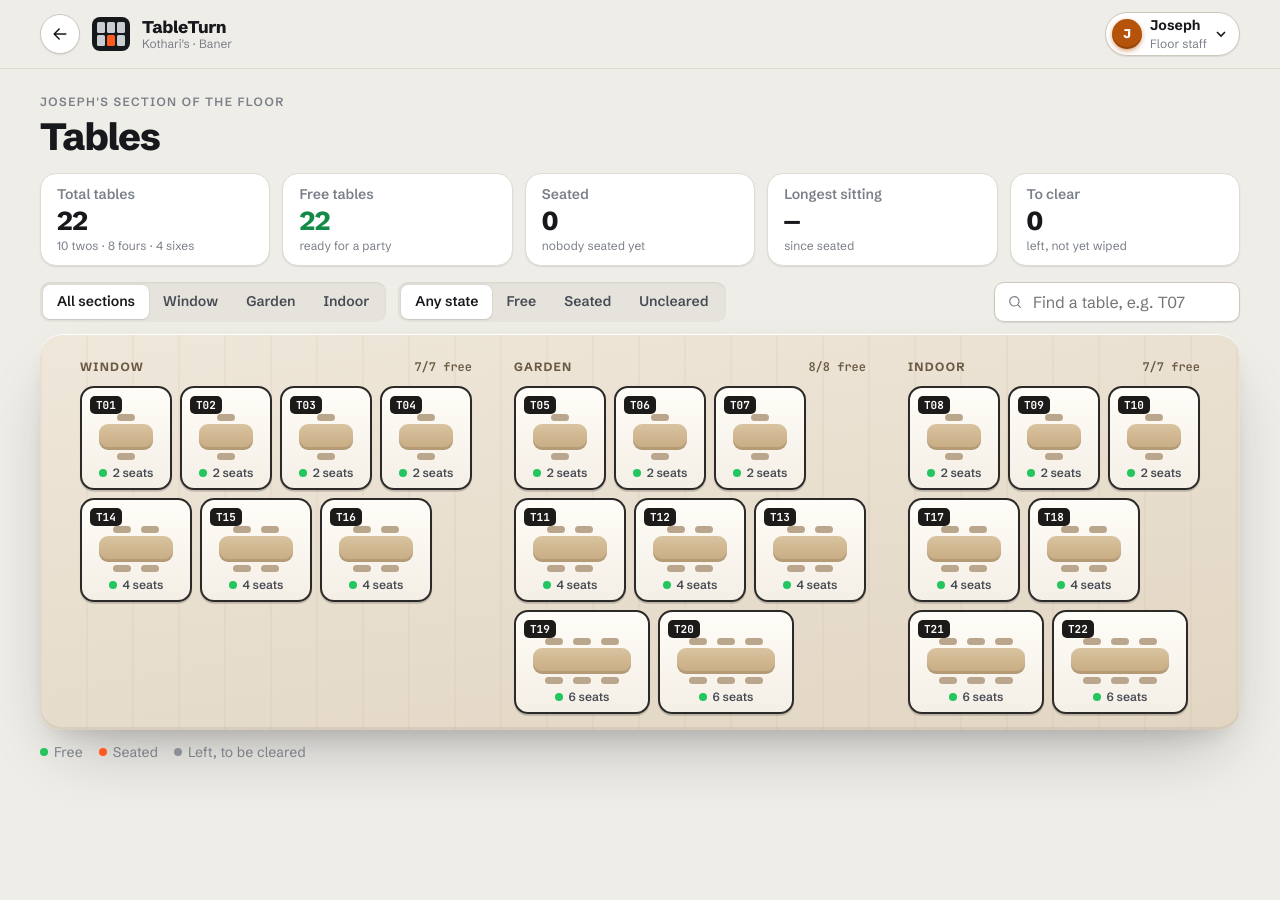
F-02 · Moving between people › a click outside the person menu closes it and nothing else changes
The image size is (1280, 900).
Click the button "J Joseph Floor staff" at (1173, 34), box x1=1105 y1=12 x2=1240 y2=56
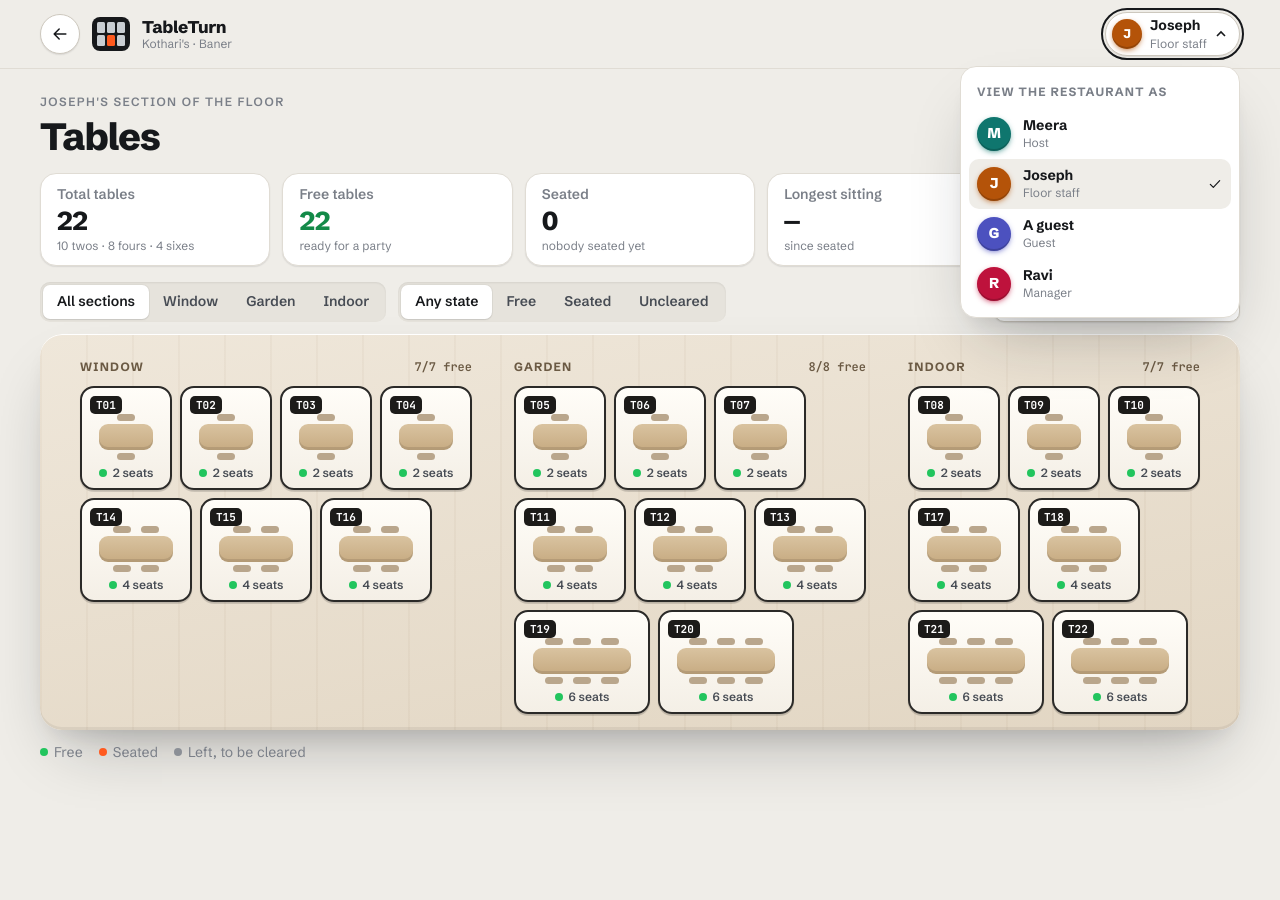
Click the element that starts with "TableTurn" at (640, 450), box x1=0 y1=0 x2=1279 y2=899
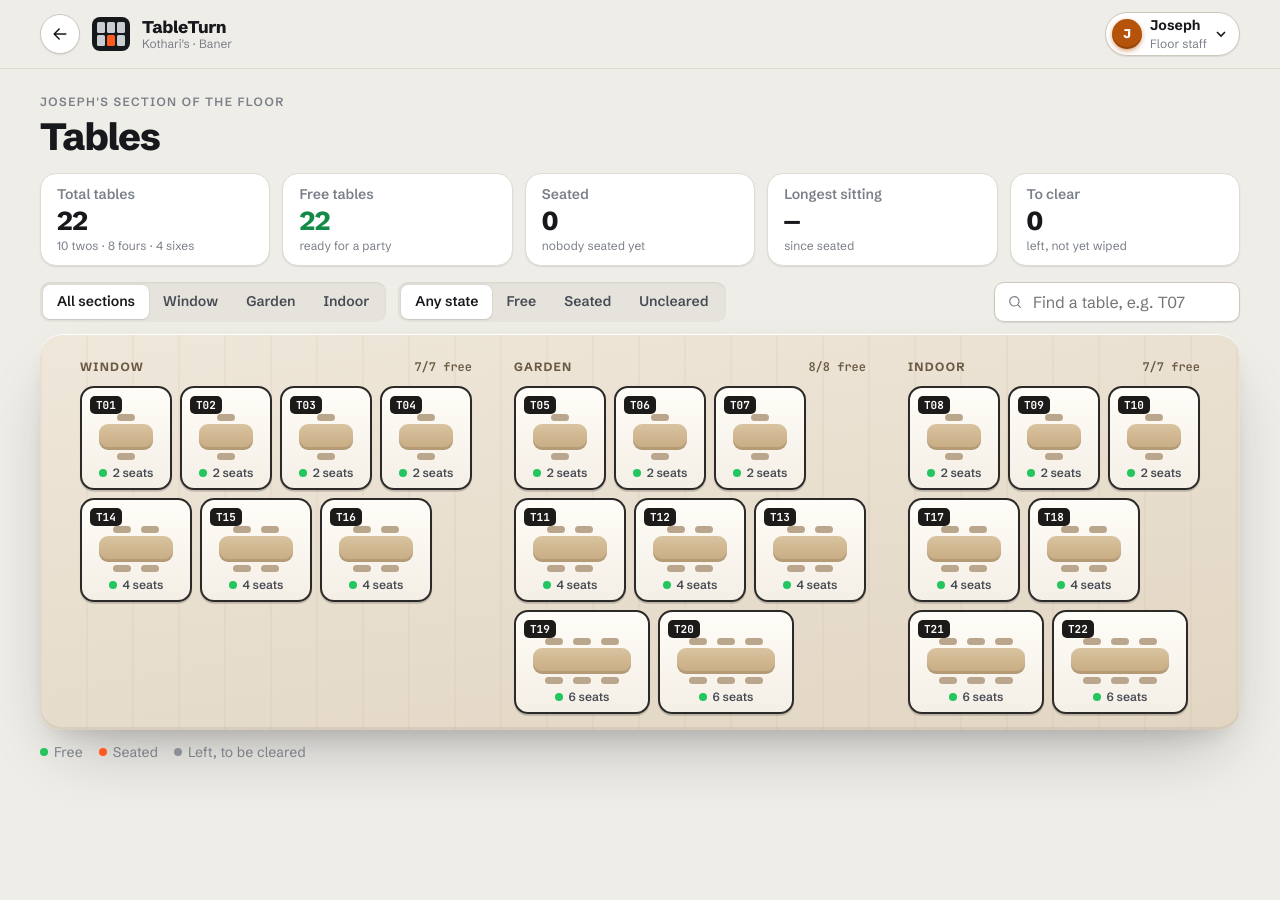
Expected: the button "J Joseph Floor staff" is shown, x1=1105 y1=12 x2=1240 y2=56
Expected: the menu is gone
